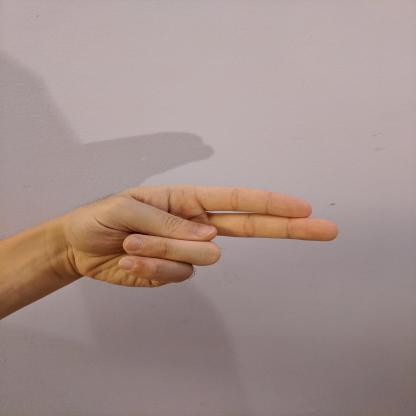H: (74, 176, 344, 294)
